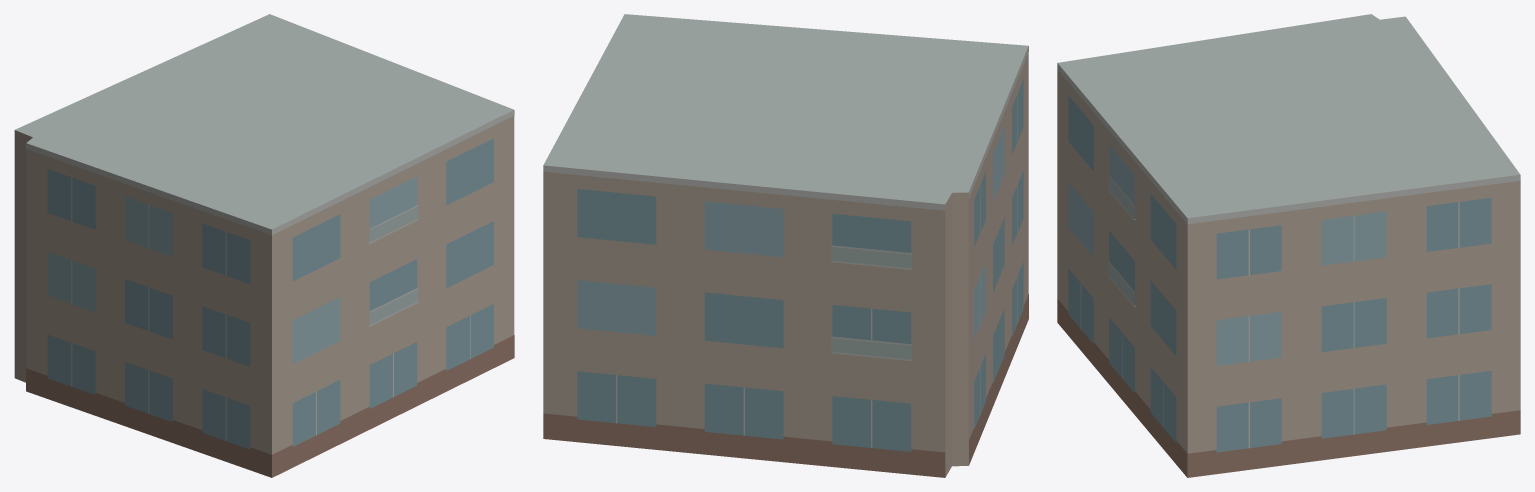
The model's file is survey-upis-32952431.glb.
The picture shows the model from 3 angles, left to right: view 1: azimuth 30°, elevation 25°; view 2: azimuth 150°, elevation 25°; view 3: azimuth 270°, elevation 25°; orthographic projection. The views are drawn at different scales.
Parts seen in each view (by area): view 1: survey-upis-32952431.tmp; view 2: survey-upis-32952431.tmp; view 3: survey-upis-32952431.tmp.
Part boxes in pixels (bbox=[...]): survey-upis-32952431.tmp: bbox=[14, 14, 514, 477]; survey-upis-32952431.tmp: bbox=[543, 14, 1028, 477]; survey-upis-32952431.tmp: bbox=[1057, 14, 1520, 477].
Bounding box in the file's own units: 17.73 × 10.5 × 16.99.
